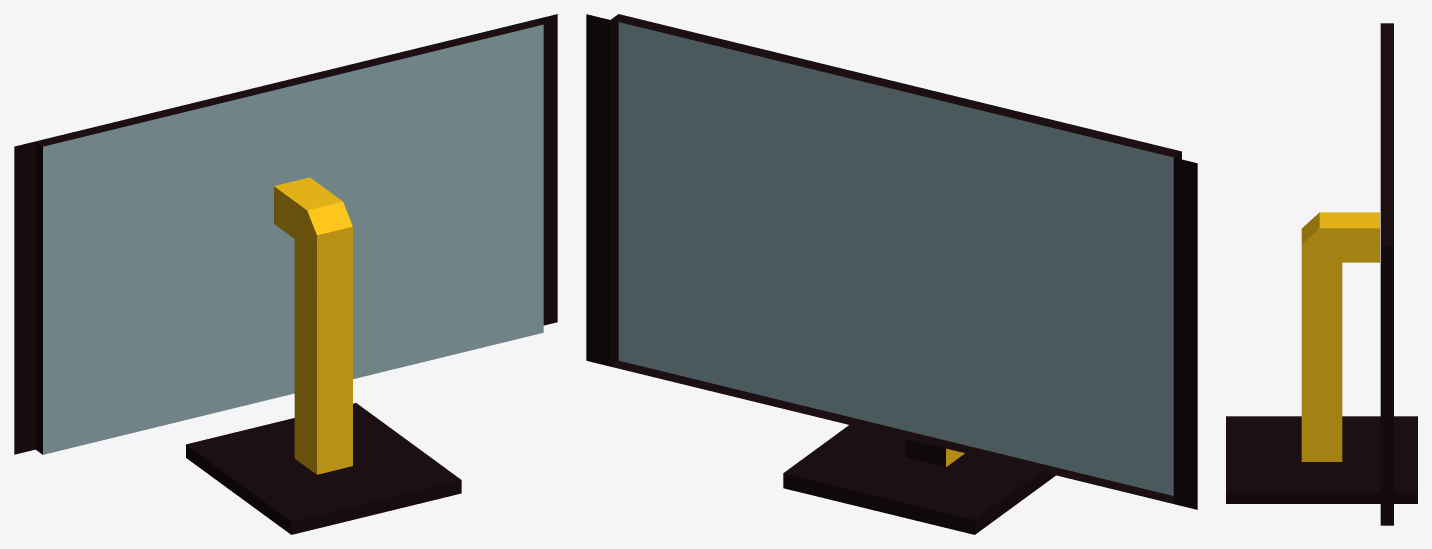
File: monitor.gltf
The picture shows the model from 3 angles, left to right: view 1: azimuth 30°, elevation 25°; view 2: azimuth 150°, elevation 25°; view 3: azimuth 270°, elevation 25°; orthographic projection. The views are drawn at different scales.
Visible parts, largest first — view 1: Plane.005; view 2: Plane.005; view 3: Plane.005.
Part boxes in pixels (x1,y1,x2,y2): Plane.005: (14, 14, 557, 534); Plane.005: (586, 14, 1197, 534); Plane.005: (1226, 23, 1417, 525).
Bounding box in the file's own units: 0.7541 × 0.4851 × 0.2537.
2 materials, 2 textured.
